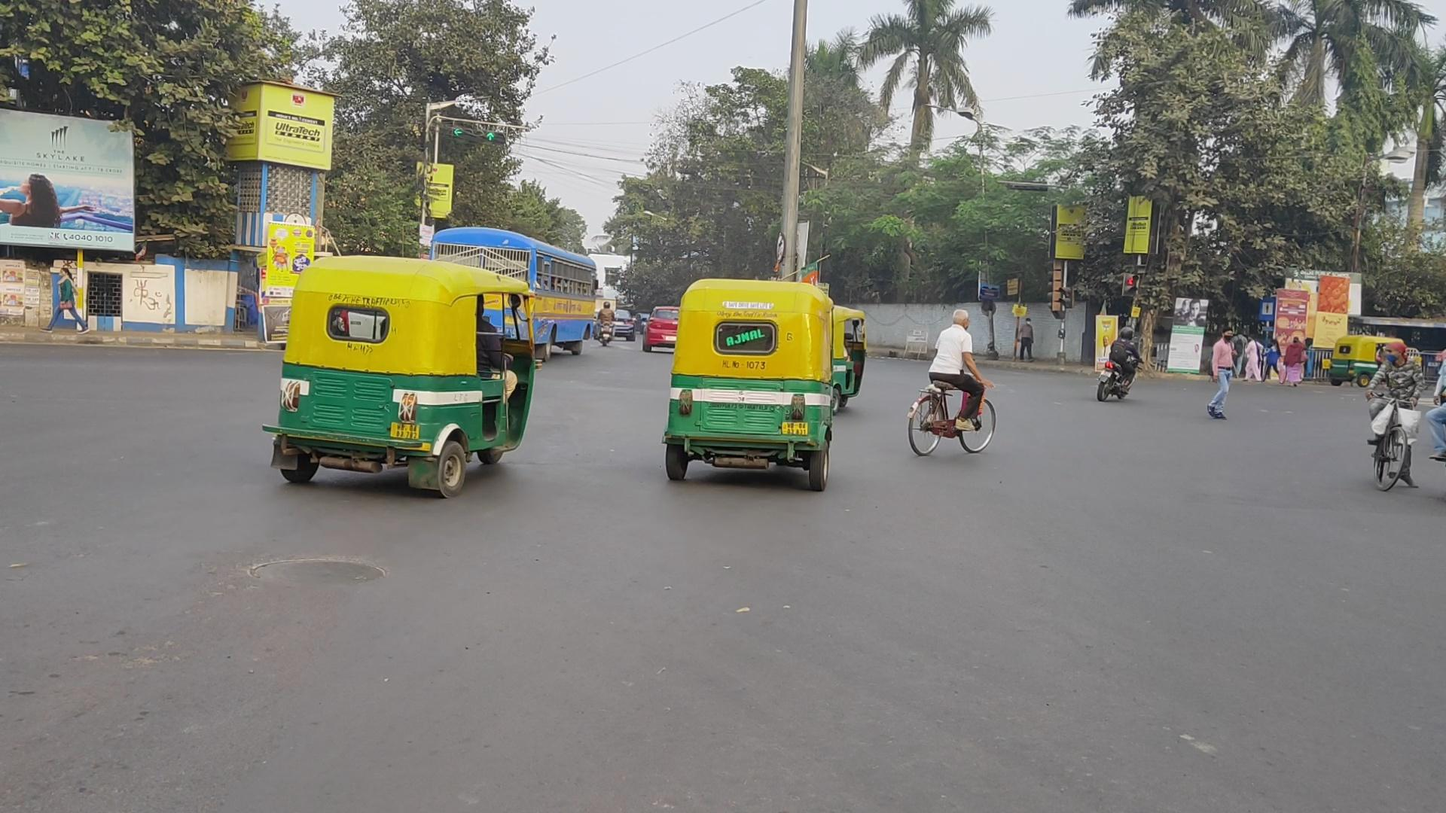Auto: (267, 255, 542, 498), (664, 276, 838, 491), (1329, 333, 1405, 388)
Bus: (429, 228, 599, 361)
bike: (910, 309, 996, 457), (1366, 341, 1426, 492), (1092, 327, 1146, 404), (594, 303, 616, 346)
car: (644, 305, 692, 355)
